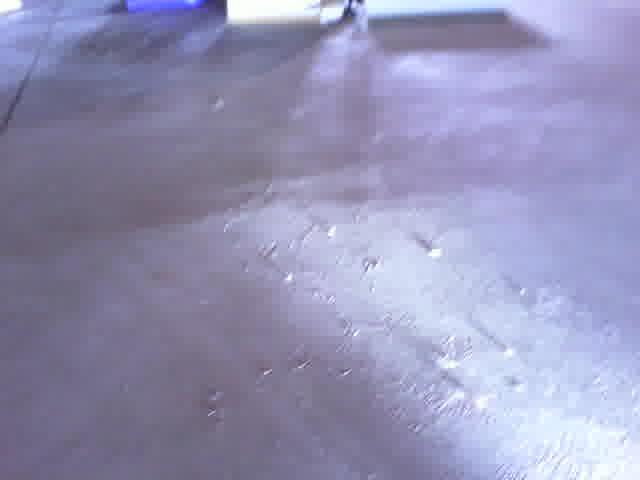coral: (363, 0, 511, 25)
